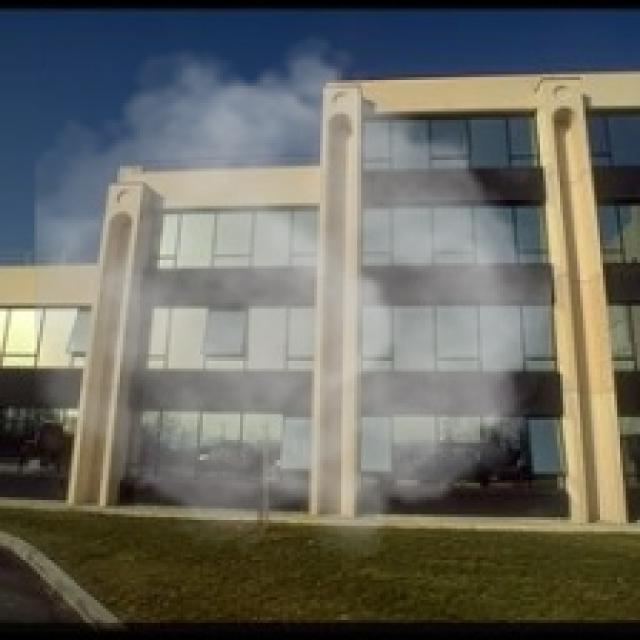smoke: (34, 31, 552, 563)
